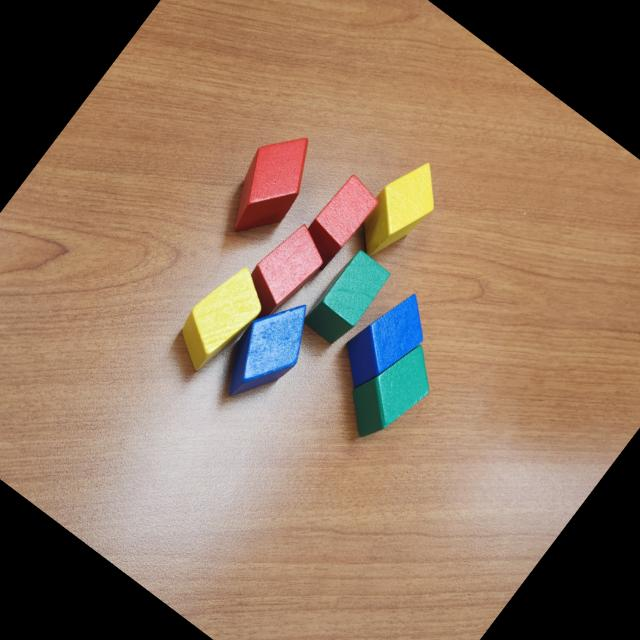blue: (206, 287, 326, 418), (328, 280, 443, 404)
green: (328, 324, 451, 454), (300, 245, 396, 351)
red: (210, 120, 330, 251), (228, 214, 336, 334), (290, 171, 384, 276)
yellow: (164, 255, 278, 381), (346, 150, 454, 270)
